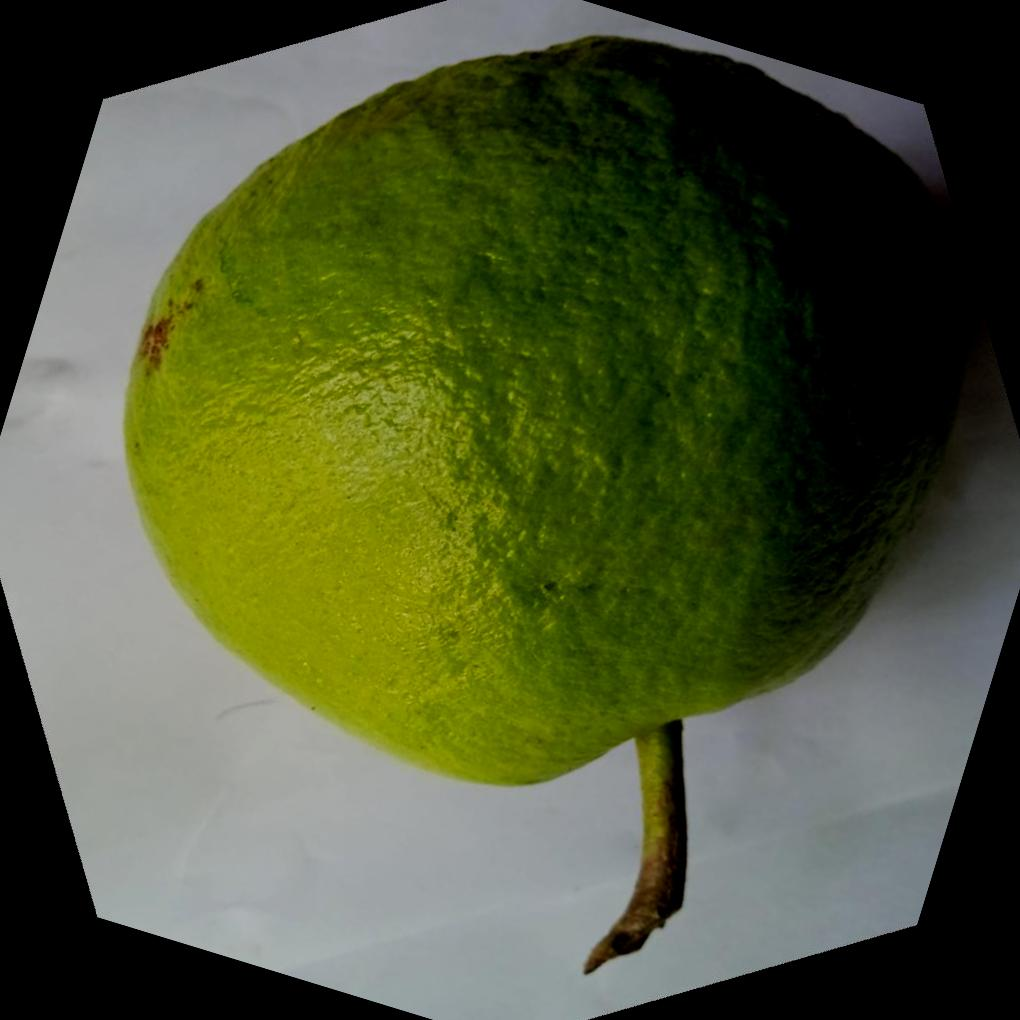FreshGuava: (118, 33, 983, 948)
